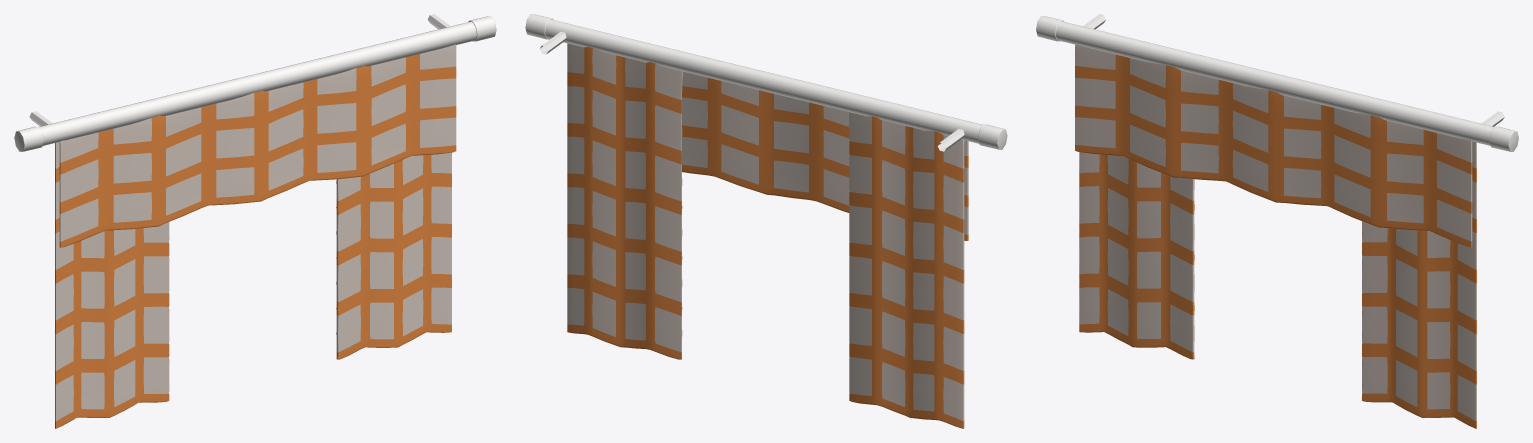
The model's file is Curtains_2.glb.
3 renders of one model, left to right at view 1: azimuth 30°, elevation 25°; view 2: azimuth 150°, elevation 25°; view 3: azimuth 330°, elevation 25°, orthographic.
Visible parts, largest first — view 1: Curtains_2; view 2: Curtains_2; view 3: Curtains_2.
Boxes of the visible parts, x1=… form: Curtains_2: x1=14, y1=14, x2=496, y2=428; Curtains_2: x1=525, y1=14, x2=1007, y2=428; Curtains_2: x1=1036, y1=14, x2=1518, y2=428.
Bounding box in the file's own units: 2.68 × 1.68 × 0.2788.
Materials: 1 (1 with a texture image).
